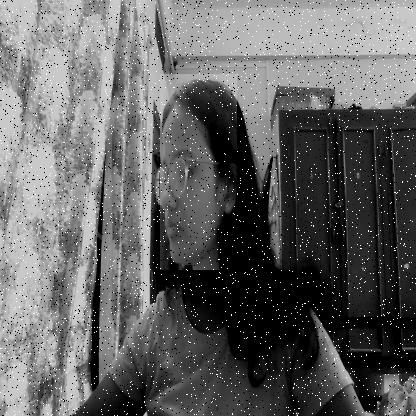Distracted: (160, 74, 237, 270)
